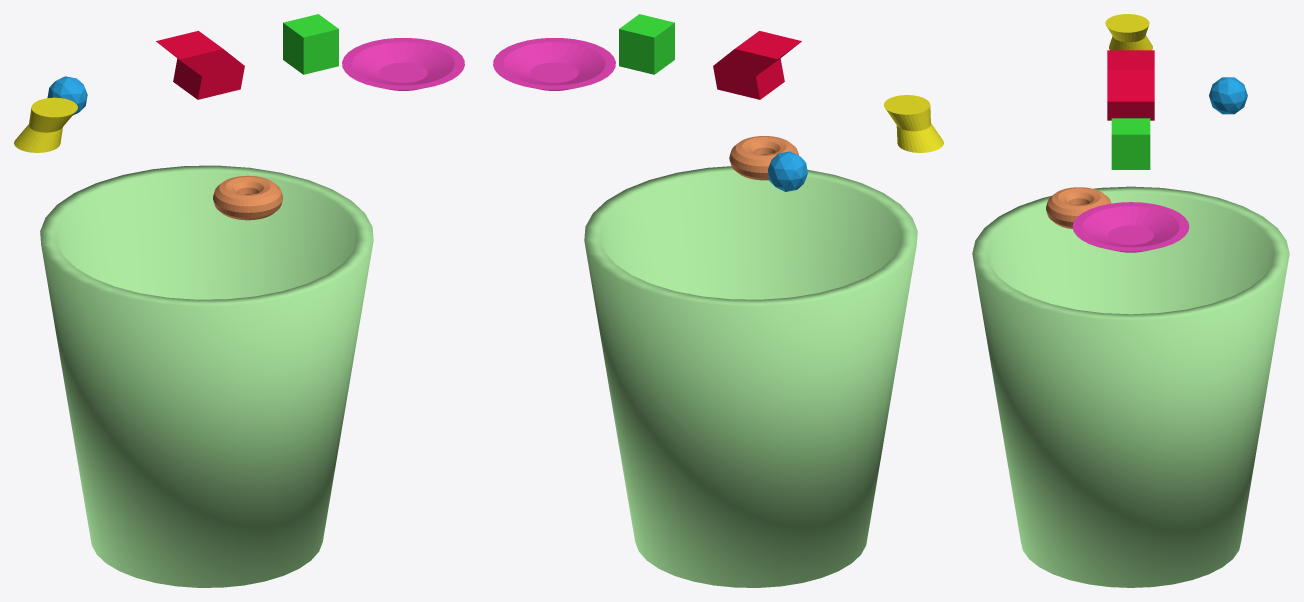
The model's file is Trash.fbx.
3 renders of one model, left to right at view 1: azimuth 30°, elevation 25°; view 2: azimuth 150°, elevation 25°; view 3: azimuth 270°, elevation 25°, orthographic. The views are drawn at different scales.
Visible parts, largest first — view 1: TrashCan, Trash5, Trash3, Trash4, Trash6, Trash1, Trash2; view 2: TrashCan, Trash5, Trash3, Trash4, Trash1, Trash6, Trash2; view 3: TrashCan, Trash5, Trash3, Trash4, Trash6, Trash1, Trash2.
Part boxes in pixels (left/top/right/bottom): TrashCan: left=40, top=165, right=373, bottom=587; Trash5: left=342, top=38, right=464, bottom=90; Trash3: left=156, top=31, right=244, bottom=99; Trash4: left=283, top=14, right=338, bottom=74; Trash6: left=213, top=175, right=282, bottom=220; Trash1: left=14, top=97, right=77, bottom=152; Trash2: left=47, top=76, right=87, bottom=115; TrashCan: left=584, top=166, right=917, bottom=587; Trash5: left=493, top=38, right=615, bottom=90; Trash3: left=713, top=31, right=801, bottom=99; Trash4: left=619, top=14, right=674, bottom=74; Trash1: left=883, top=95, right=943, bottom=152; Trash6: left=729, top=136, right=798, bottom=180; Trash2: left=767, top=151, right=807, bottom=191; TrashCan: left=972, top=186, right=1289, bottom=587; Trash5: left=1072, top=202, right=1189, bottom=252; Trash3: left=1107, top=50, right=1154, bottom=120; Trash4: left=1111, top=118, right=1150, bottom=169; Trash6: left=1046, top=187, right=1111, bottom=228; Trash1: left=1105, top=14, right=1152, bottom=50; Trash2: left=1209, top=77, right=1247, bottom=114.
Bounding box in the file's own units: 304 × 329 × 200.
